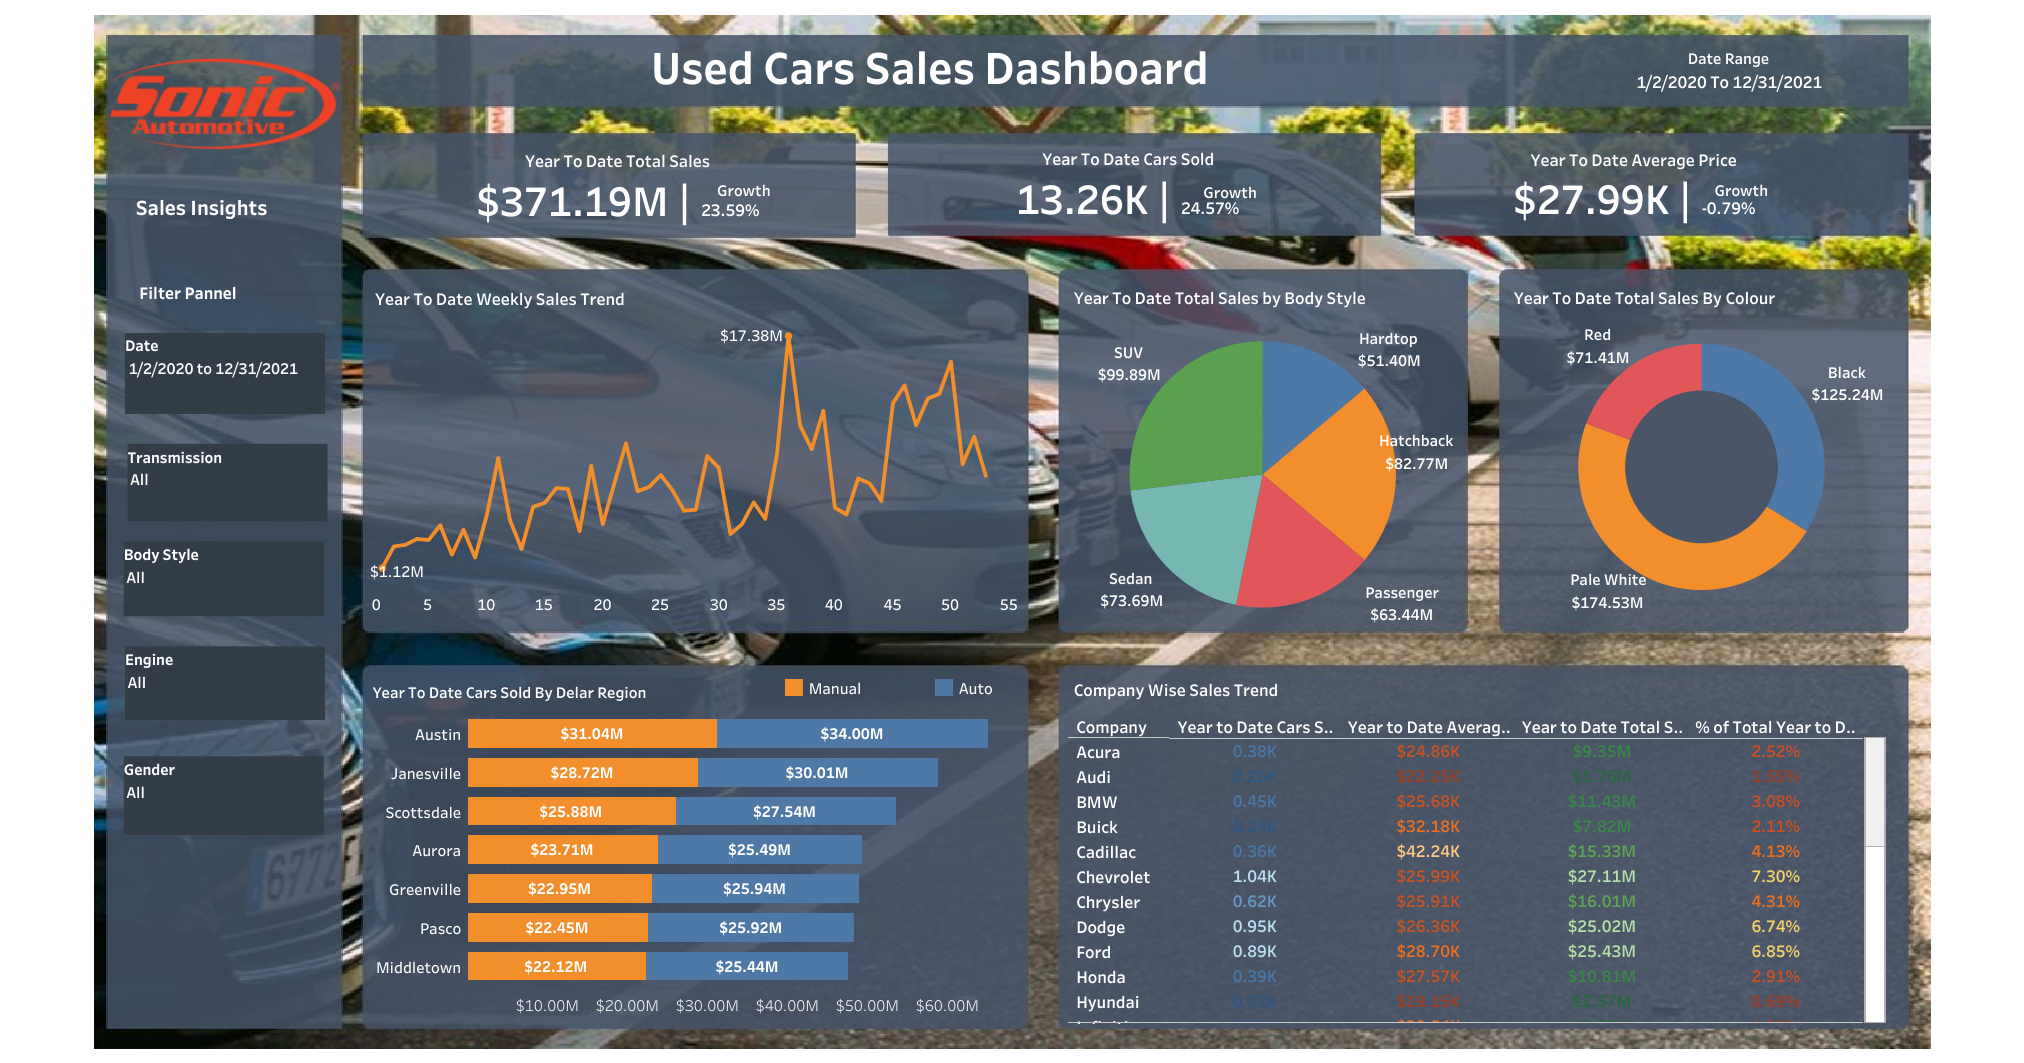

The page's visual inventory and layout, read from the dashboard file:
{"tool":"tableau","page":{"name":"Used Cars Sales Dashboard","canvas":[1620,851],"ordinal":0},"visuals":[{"type":"image","param":"Image/Slide1.JPG","box":[8,8,1604,835]},{"type":"image","param":"Image/Sonic_Automotive_logo.png","box":[87,17,185,133]},{"type":"text","box":[518,23,582,58]},{"type":"worksheet","title":"Date Range","mark":"Automatic","box":[1251,32,265,48]},{"type":"worksheet","title":"Year to Date Total Sales","mark":"Automatic","box":[312.4,101,364.6,100]},{"type":"worksheet","title":"Year to Date Average Price","mark":"Automatic","box":[1121.9,102,371.4,94]},{"type":"worksheet","title":"Year to Date Cars Sold","mark":"Automatic","box":[716.7,105,372.4,88]},{"type":"text","box":[570.6,133,96.7,38]},{"type":"text","box":[1369.5,137,96.7,30]},{"type":"text","box":[960.4,138,96.7,30]},{"type":"text","box":[106,150,139,30]},{"type":"text","box":[96,218,109,30]},{"type":"worksheet","title":"Year To Date Total Sales by Body Style","mark":"Pie","box":[855,222,310,281]},{"type":"worksheet","title":"Year To Date Total Sales By Colour","mark":"Pie","rows":["Calculation_2119788079504171019","Calculation_2119788079504171019"],"box":[1207,222,308,269]},{"type":"worksheet","title":"Year To Date Weekly Sales Trend","mark":"Automatic","rows":["Calculation_2119788079485304832"],"cols":["Date"],"box":[296,223,520,274]},{"type":"filter","title":"Year To Date Weekly Sales Trend","param":"[federated.05d7ctx1p502cf19e7jcc09mivx1].[none:Date:qk]","box":[100,266,160,65]},{"type":"filter","title":"Year To Date Weekly Sales Trend","param":"[federated.05d7ctx1p502cf19e7jcc09mivx1].[none:Transmission:nk]","box":[102,355,160,62]},{"type":"filter","title":"Year To Date Weekly Sales Trend","param":"[federated.05d7ctx1p502cf19e7jcc09mivx1].[none:Body Style:nk]","box":[99,433,160,60]},{"type":"filter","title":"Year To Date Weekly Sales Trend","param":"[federated.05d7ctx1p502cf19e7jcc09mivx1].[none:Engine:nk]","box":[100,517,160,59]},{"type":"worksheet","title":"Company Wise Sales Trend","mark":"Automatic","rows":["Company"],"box":[855,536,654,283]},{"type":"worksheet","title":"Year To Date Cars Sold By Delar Region","mark":"Automatic","rows":["Dealer_Region"],"cols":["Calculation_2119788079485304832"],"box":[294,538,517,280]},{"type":"legend","title":"Year To Date Cars Sold By Delar Region","param":"[federated.05d7ctx1p502cf19e7jcc09mivx1].[none:Transmission:nk]","box":[625,540,258,24]},{"type":"filter","title":"Year To Date Weekly Sales Trend","param":"[federated.05d7ctx1p502cf19e7jcc09mivx1].[none:Gender:nk]","box":[99,605,160,63]}]}

Visuals, with their boxes in screenshot pixels (x1, y1, x2, y2), scaled from the page's 1620x851 canvas onto the 2024x1063 screenshot:
image: crop(10, 10, 2014, 1053)
image: crop(109, 21, 340, 187)
text: crop(647, 29, 1374, 101)
"Date Range" worksheet: crop(1563, 40, 1894, 100)
"Year to Date Total Sales" worksheet: crop(390, 126, 846, 251)
"Year to Date Average Price" worksheet: crop(1402, 127, 1866, 245)
"Year to Date Cars Sold" worksheet: crop(895, 131, 1361, 241)
text: crop(713, 166, 834, 214)
text: crop(1711, 171, 1832, 209)
text: crop(1200, 172, 1321, 210)
text: crop(132, 187, 306, 225)
text: crop(120, 272, 256, 310)
"Year To Date Total Sales by Body Style" worksheet (Pie marks): crop(1068, 277, 1456, 628)
"Year To Date Total Sales By Colour" worksheet (Pie marks): crop(1508, 277, 1893, 613)
"Year To Date Weekly Sales Trend" worksheet: crop(370, 279, 1019, 621)
"Year To Date Weekly Sales Trend" filter: crop(125, 332, 325, 413)
"Year To Date Weekly Sales Trend" filter: crop(127, 443, 327, 521)
"Year To Date Weekly Sales Trend" filter: crop(124, 541, 324, 616)
"Year To Date Weekly Sales Trend" filter: crop(125, 646, 325, 719)
"Company Wise Sales Trend" worksheet: crop(1068, 670, 1885, 1023)
"Year To Date Cars Sold By Delar Region" worksheet: crop(367, 672, 1013, 1022)
"Year To Date Cars Sold By Delar Region" legend: crop(781, 675, 1103, 705)
"Year To Date Weekly Sales Trend" filter: crop(124, 756, 324, 834)
